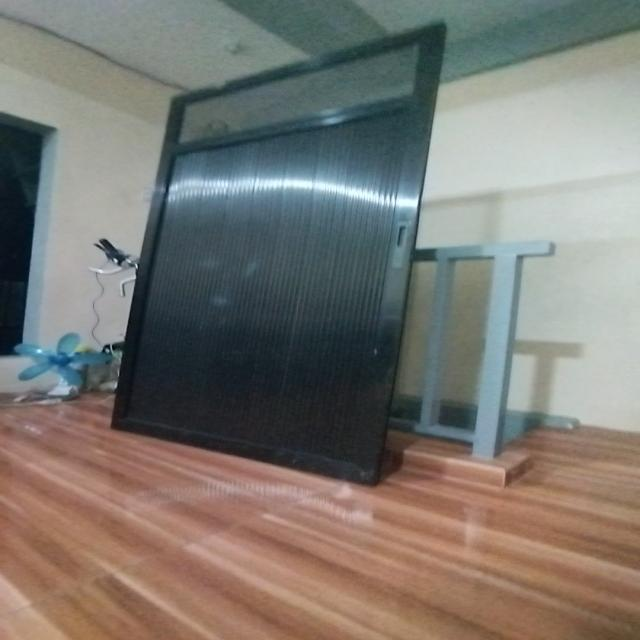door: (113, 17, 453, 487)
